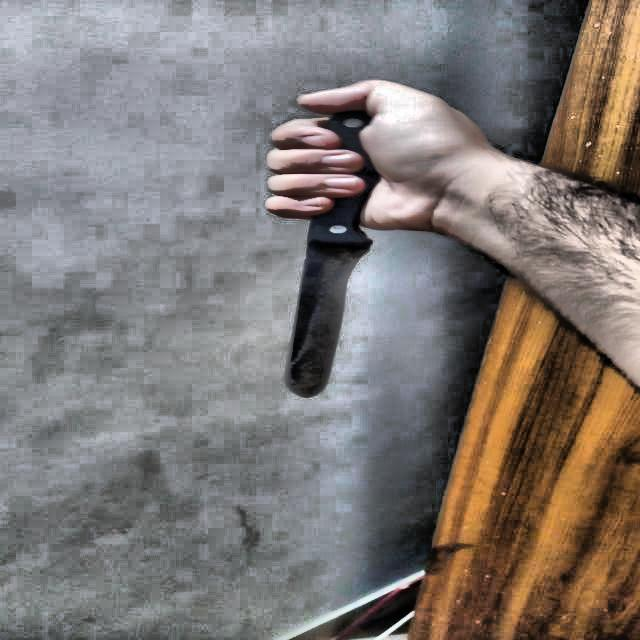knife: (288, 114, 379, 396)
